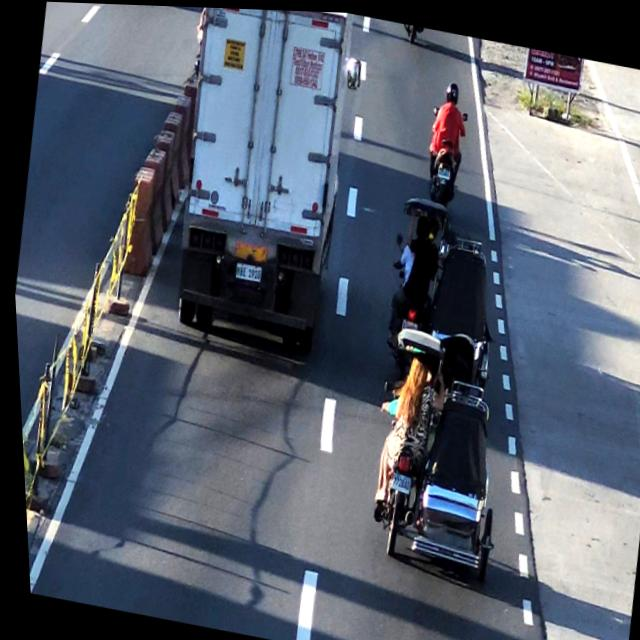License-Plate: (231, 260, 262, 286), (385, 472, 409, 495), (433, 161, 453, 181)
Motorcycle: (415, 74, 476, 197)
Tricycle: (344, 314, 528, 589), (378, 190, 509, 349)
Truck: (149, 4, 370, 362)
